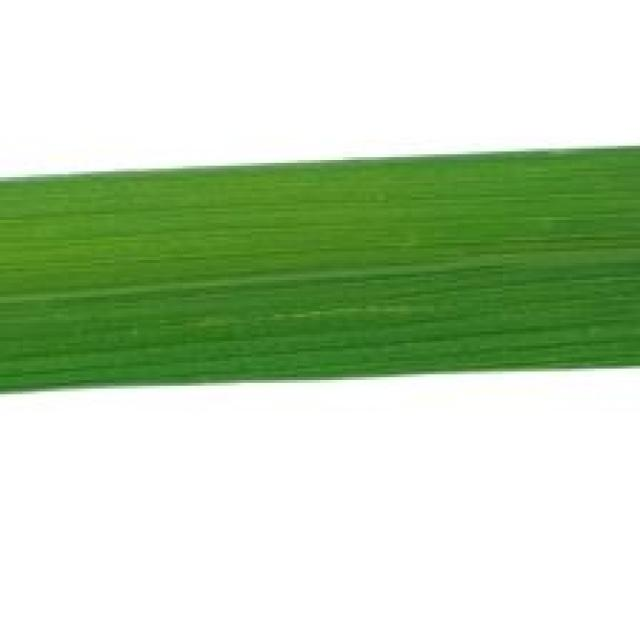Rice___Healthy_Rice_Plant: (0, 148, 637, 397)
